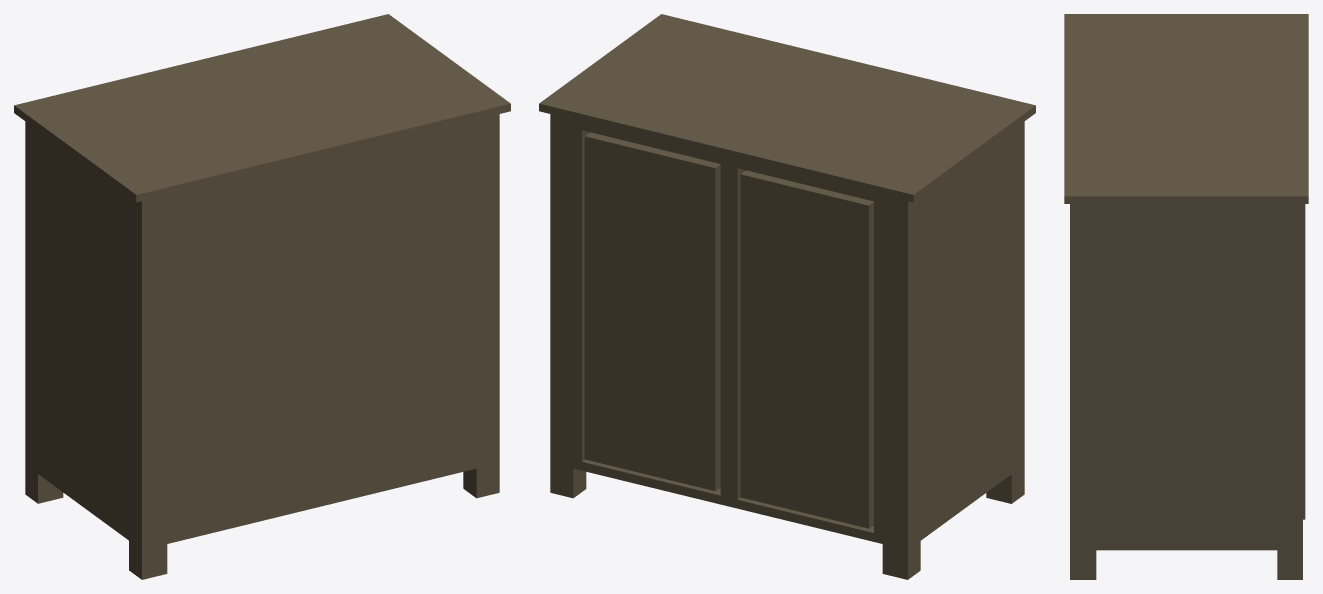
File: 3Dobject_cupboardtable.fbx
3 views of the same model, side by side, from view 1: azimuth 30°, elevation 25°; view 2: azimuth 150°, elevation 25°; view 3: azimuth 270°, elevation 25° (orthographic).
Visible parts, largest first — view 1: pCube1; view 2: pCube1; view 3: pCube1.
Part boxes in pixels (box(x1,y1,x2,y2)): pCube1: box(14, 14, 510, 579); pCube1: box(539, 14, 1035, 579); pCube1: box(1064, 14, 1308, 579).
Bounding box in the file's own units: 1.1 × 1.1 × 0.6248.
